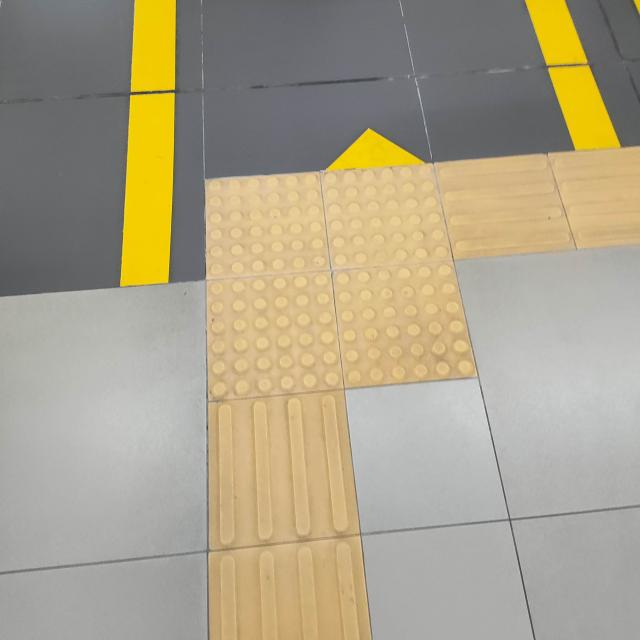kanan: (136, 113, 640, 470)
